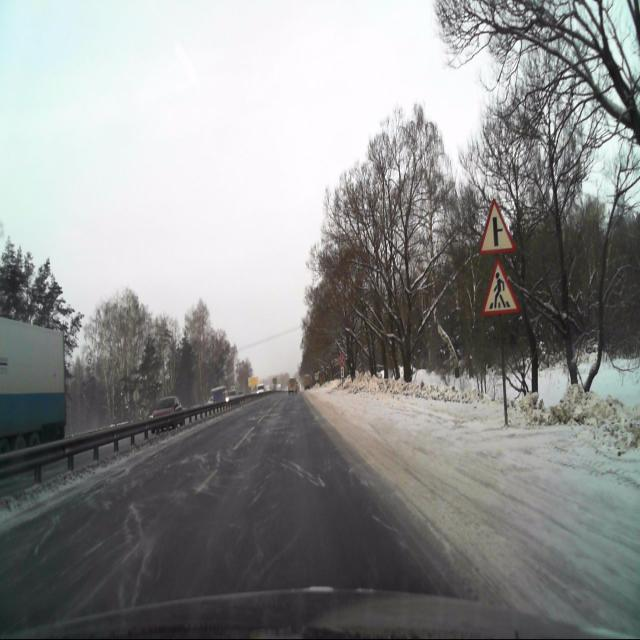object: (499, 316, 509, 427)
road sign: (480, 255, 523, 316), (479, 196, 518, 257)
